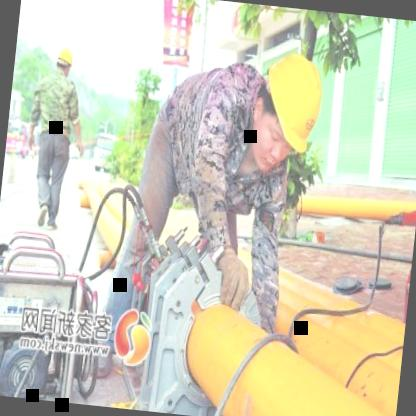helmet: (235, 37, 334, 183), (51, 42, 79, 84)
